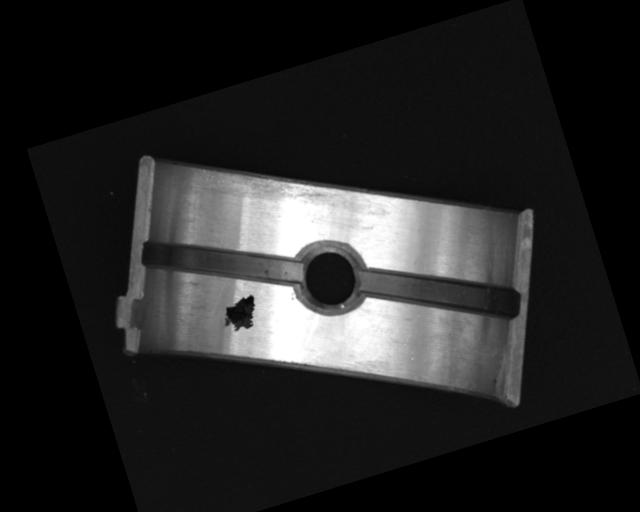blot: (215, 292, 262, 336)
gap: (355, 229, 522, 356), (138, 200, 304, 321)
hole: (285, 230, 375, 323)
scratch: (193, 129, 348, 236)
